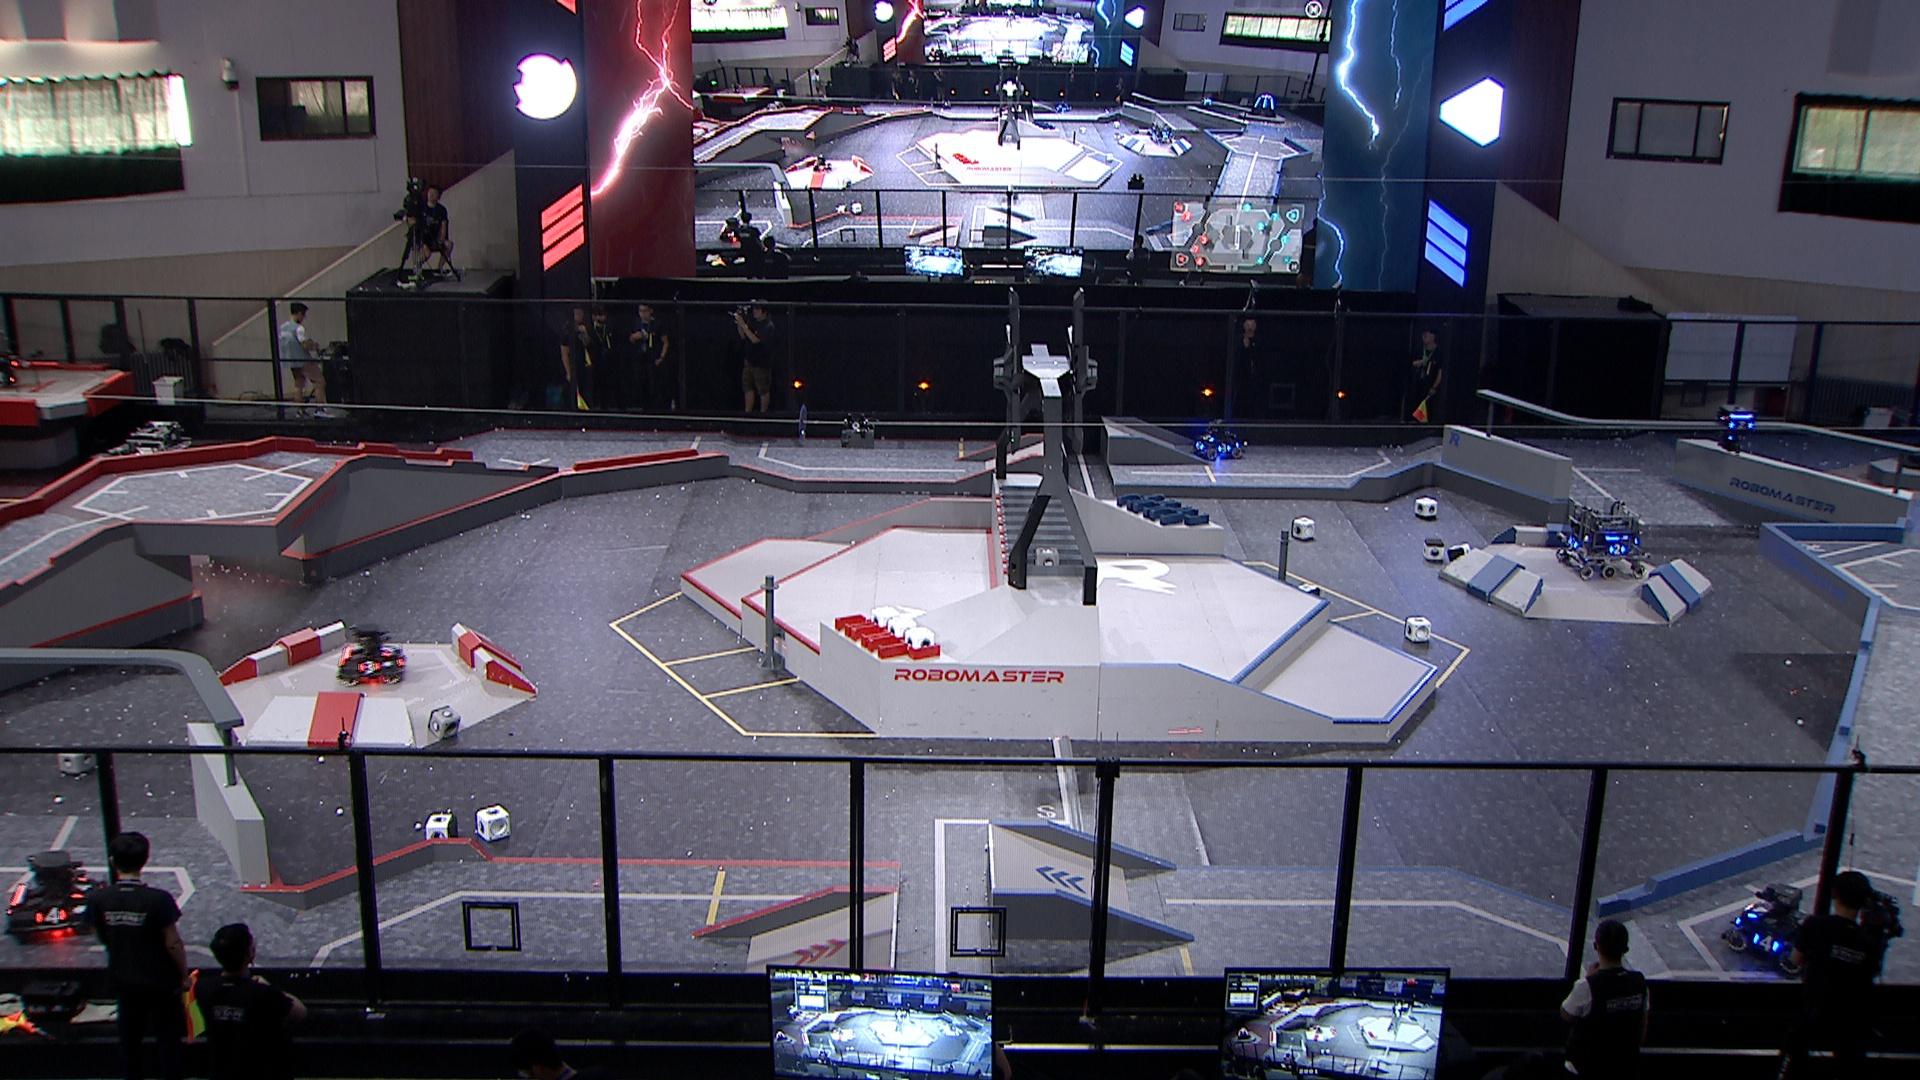armor: (34, 906, 69, 927), (69, 874, 94, 899), (1751, 936, 1783, 953), (1743, 901, 1774, 918), (356, 661, 381, 676), (1727, 419, 1756, 433), (1564, 534, 1581, 551), (378, 642, 396, 659), (1607, 541, 1627, 555), (1216, 440, 1233, 455), (1200, 433, 1216, 443), (1192, 440, 1205, 452)
car: (1721, 882, 1822, 972), (5, 849, 105, 936), (1555, 493, 1651, 579), (109, 417, 196, 496), (334, 622, 404, 680), (1188, 418, 1245, 460)
watcher: (1713, 401, 1760, 452)
